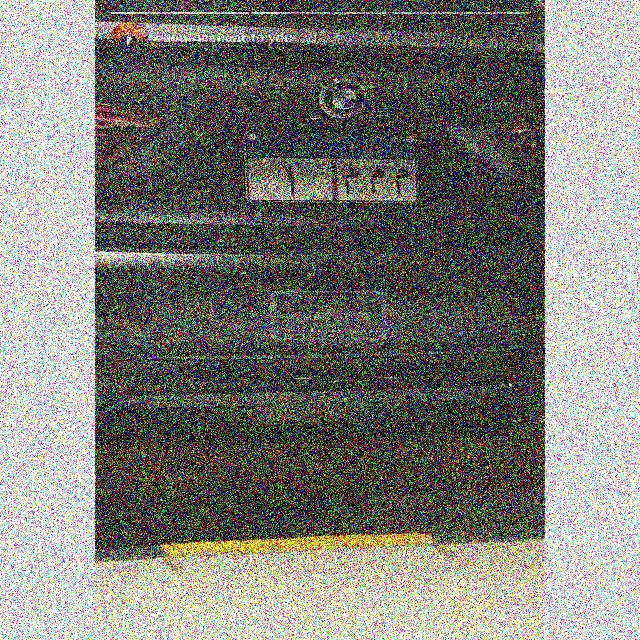License Plate: (240, 129, 423, 207)
